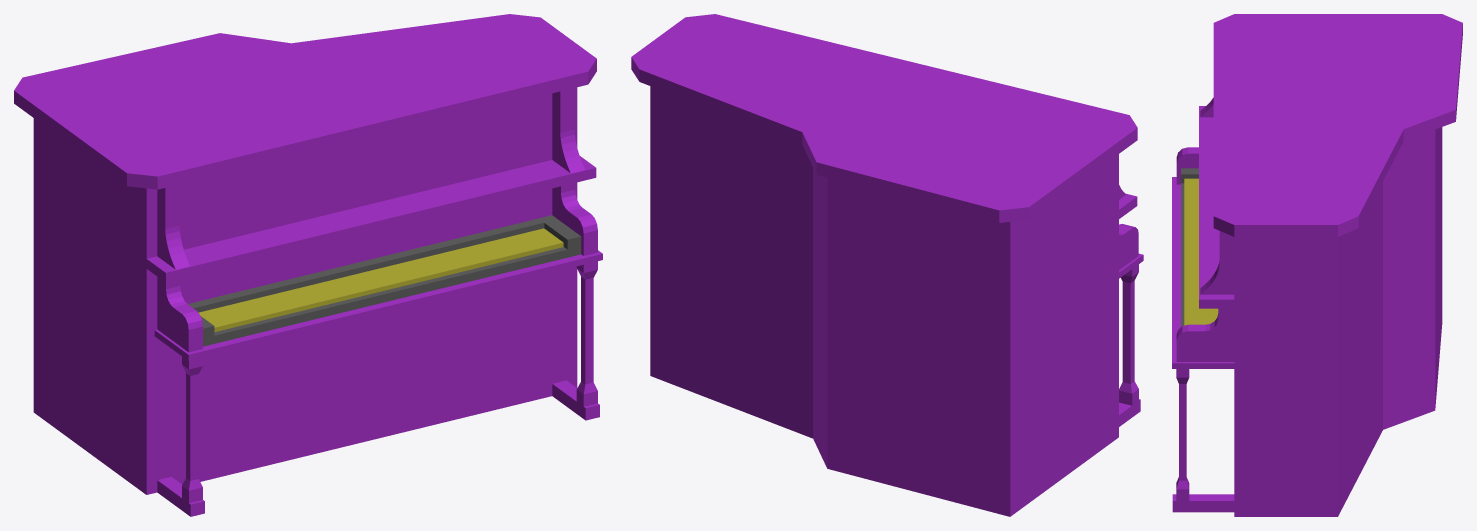
Rendered from Piano.fbx.
The picture shows the model from 3 angles, left to right: view 1: azimuth 30°, elevation 25°; view 2: azimuth 150°, elevation 25°; view 3: azimuth 270°, elevation 25°; orthographic projection. The views are drawn at different scales.
Visible parts, largest first — view 1: Buste, Clavier, Touches; view 2: Buste; view 3: Buste, Touches, Clavier.
Part boxes in pixels (<box>): Buste: <box>14,14,602,516</box>; Clavier: <box>188,215,581,346</box>; Touches: <box>198,228,563,331</box>; Buste: <box>631,14,1143,516</box>; Buste: <box>1172,14,1462,516</box>; Touches: <box>1184,178,1218,325</box>; Clavier: <box>1181,168,1198,326</box>.
Bounding box in the file's own units: 239 × 159 × 139.
